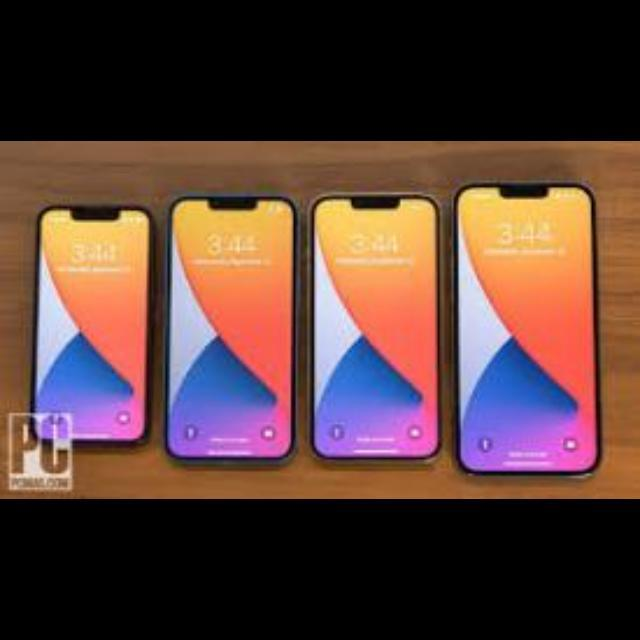Phone: (455, 186, 601, 486), (166, 193, 300, 467), (310, 193, 440, 467), (26, 206, 146, 444)
